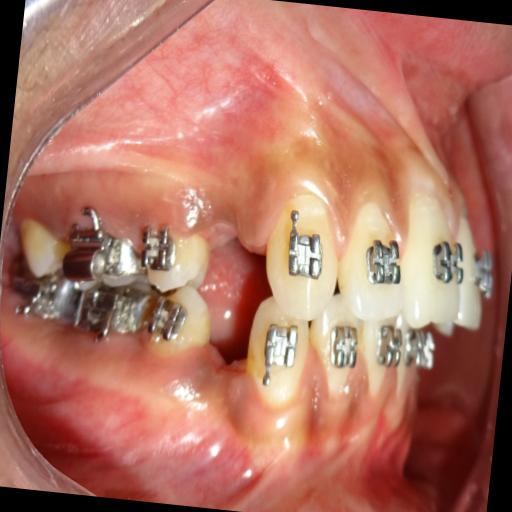correct_brace: (132, 208, 226, 310), (278, 220, 333, 288), (360, 226, 406, 299), (430, 237, 468, 294)
incorrect_brace: (337, 204, 412, 326), (137, 216, 178, 280)
